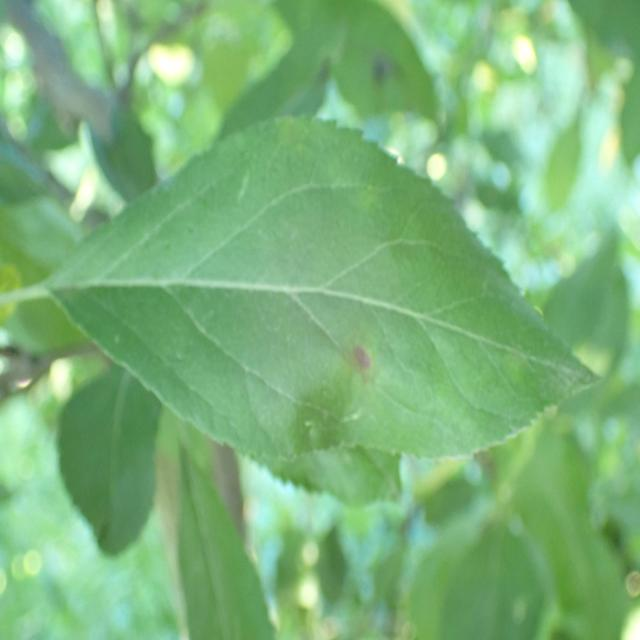scab: (62, 94, 579, 490)
